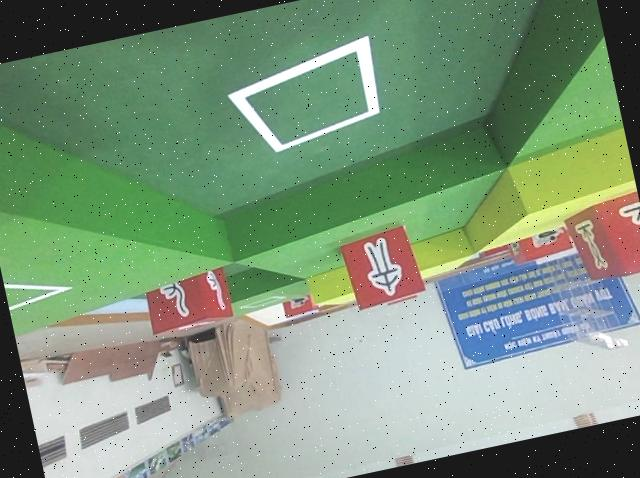R2 Fake: (335, 221, 428, 315)
R2 Real: (555, 189, 640, 290), (139, 257, 236, 338)
